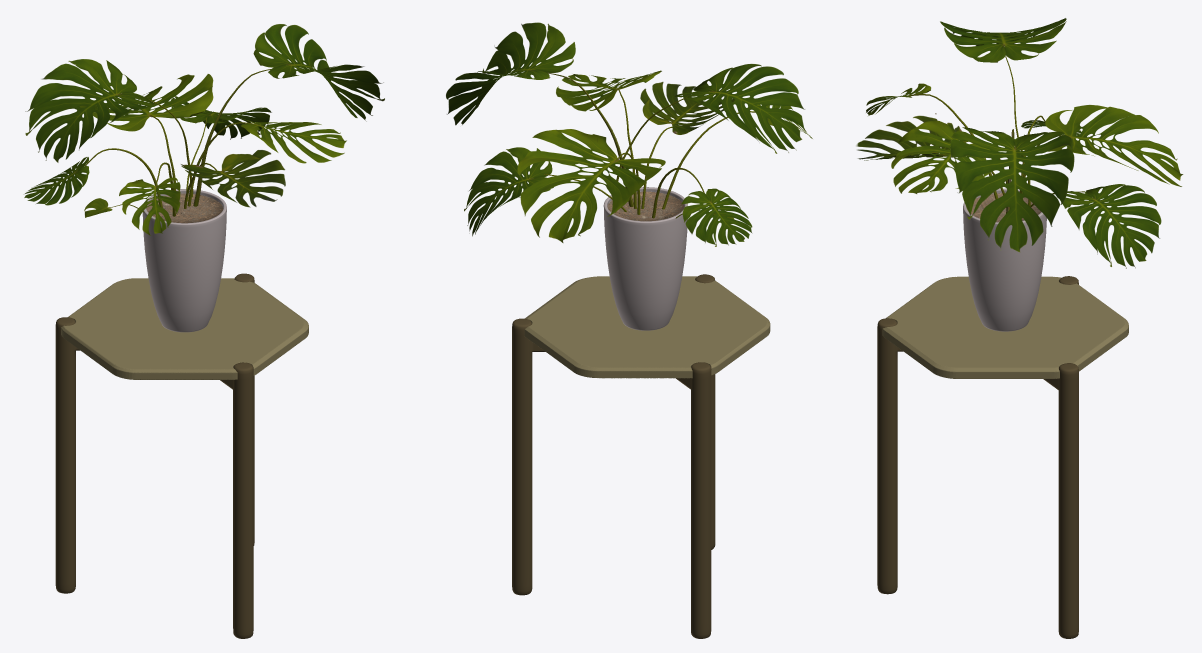
The model's file is flower_pot.glb.
3 views of the same model, side by side, from view 1: azimuth 30°, elevation 25°; view 2: azimuth 150°, elevation 25°; view 3: azimuth 270°, elevation 25° (orthographic).
Parts seen in each view (by area): view 1: Monstera_Delicosa_02 - Default_0_0, Circle_2, Cube.002_3, Cube_4; view 2: Monstera_Delicosa_02 - Default_0_0, Circle_2, Cube.002_3, Cube_4; view 3: Monstera_Delicosa_02 - Default_0_0, Circle_2, Cube.002_3, Cube_4.
Part boxes in pixels (x1,y1,x2,y2): Monstera_Delicosa_02 - Default_0_0: (23, 24, 384, 235); Circle_2: (61, 278, 308, 379); Cube.002_3: (55, 273, 254, 638); Cube_4: (142, 189, 226, 332); Monstera_Delicosa_02 - Default_0_0: (446, 22, 812, 246); Circle_2: (524, 276, 770, 378); Cube.002_3: (512, 274, 715, 638); Cube_4: (603, 187, 687, 330); Monstera_Delicosa_02 - Default_0_0: (856, 18, 1183, 268); Circle_2: (882, 276, 1128, 378); Cube.002_3: (877, 276, 1078, 638); Cube_4: (963, 188, 1046, 331).
Bounding box in the file's own units: 12.35 × 17.75 × 10.19.
5 materials, 2 textured.
